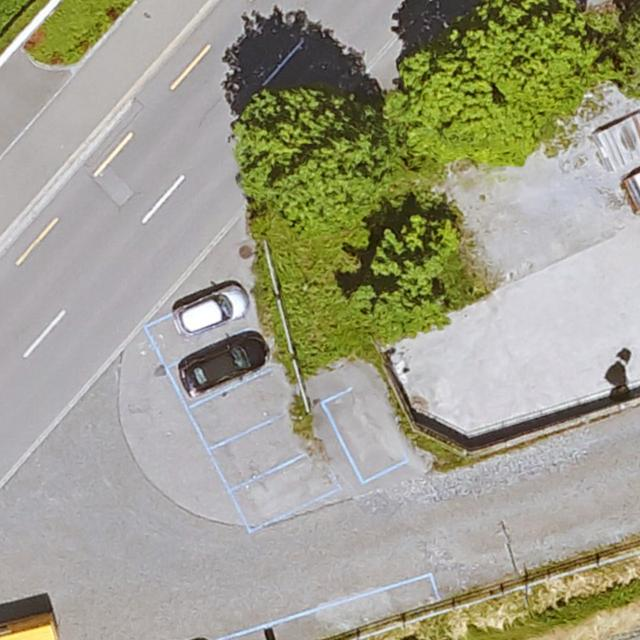tree: (400, 1, 591, 159), (235, 86, 387, 226), (361, 216, 454, 328), (612, 4, 640, 101)
